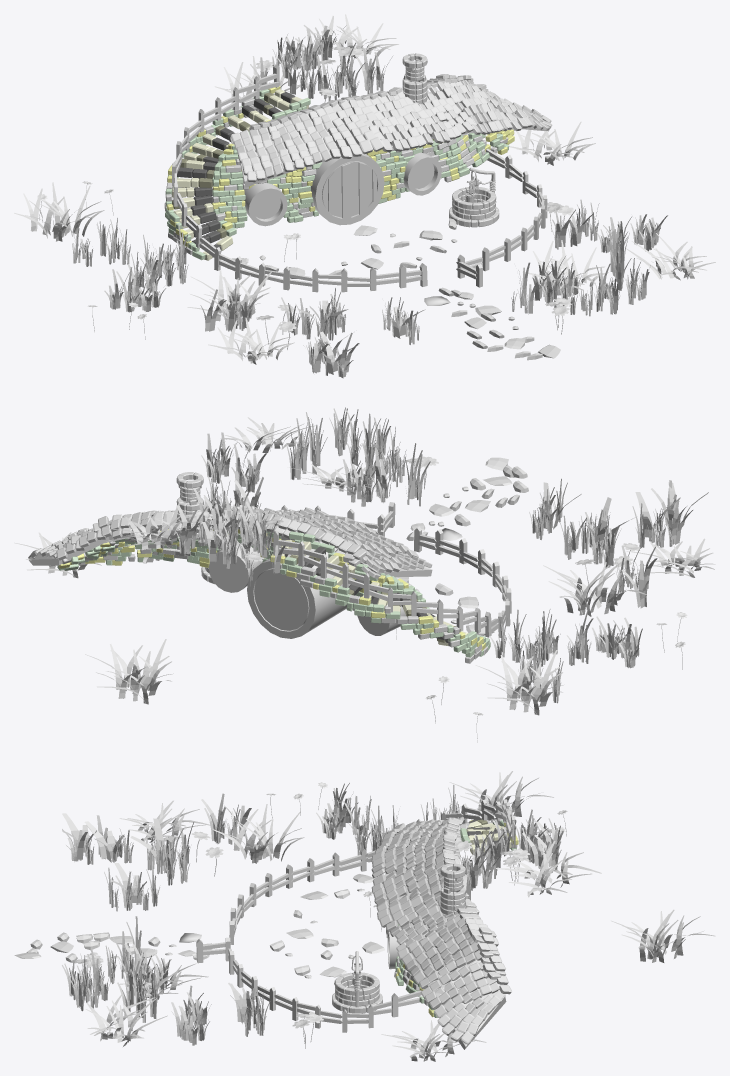
3 views of the same model, one above another, from view 1: azimuth 30°, elevation 25°; view 2: azimuth 150°, elevation 25°; view 3: azimuth 270°, elevation 25° (orthographic). The views are drawn at different scales.
Parts seen in each view (by area): view 1: Small Grass, Roof, Walls, Flat Grass, Fences, Doors and Windows, Stairs, Rocks, Well, Flowers; view 2: Small Grass, Flat Grass, Roof, Walls, Doors and Windows, Fences, Rocks, Flowers, Stairs; view 3: Roof, Small Grass, Flat Grass, Fences, Rocks, Flowers, Well, Walls, Stairs, Doors and Windows.
Part boxes in pixels (box(x1,y1,x2,y2)): Small Grass: box(72, 25, 667, 378); Roof: box(230, 53, 551, 187); Walls: box(164, 86, 514, 260); Flat Grass: box(14, 14, 715, 364); Fences: box(172, 64, 547, 292); Doors and Windows: box(244, 152, 441, 226); Stairs: box(172, 89, 308, 260); Rocks: box(227, 218, 560, 360); Well: box(449, 167, 499, 227); Flowers: box(37, 46, 574, 349); Small Grass: box(175, 407, 708, 703); Flat Grass: box(14, 417, 715, 715); Roof: box(28, 472, 432, 578); Walls: box(57, 528, 490, 663); Doors and Windows: box(208, 542, 406, 638); Fences: box(142, 502, 511, 637); Rocks: box(398, 457, 528, 635); Flowers: box(185, 456, 687, 742); Stairs: box(280, 540, 468, 646); Roof: box(371, 816, 511, 1049); Small Grass: box(62, 783, 563, 1045); Flat Grass: box(85, 771, 715, 1061); Fences: box(196, 799, 515, 1032); Rocks: box(14, 874, 384, 984); Flowers: box(74, 782, 567, 1048); Well: box(332, 951, 382, 1013); Walls: box(394, 818, 518, 1017); Stairs: box(466, 819, 511, 854); Doors and Windows: box(386, 874, 470, 969).
Size of the model in its own units: 811 by 216 by 875.
